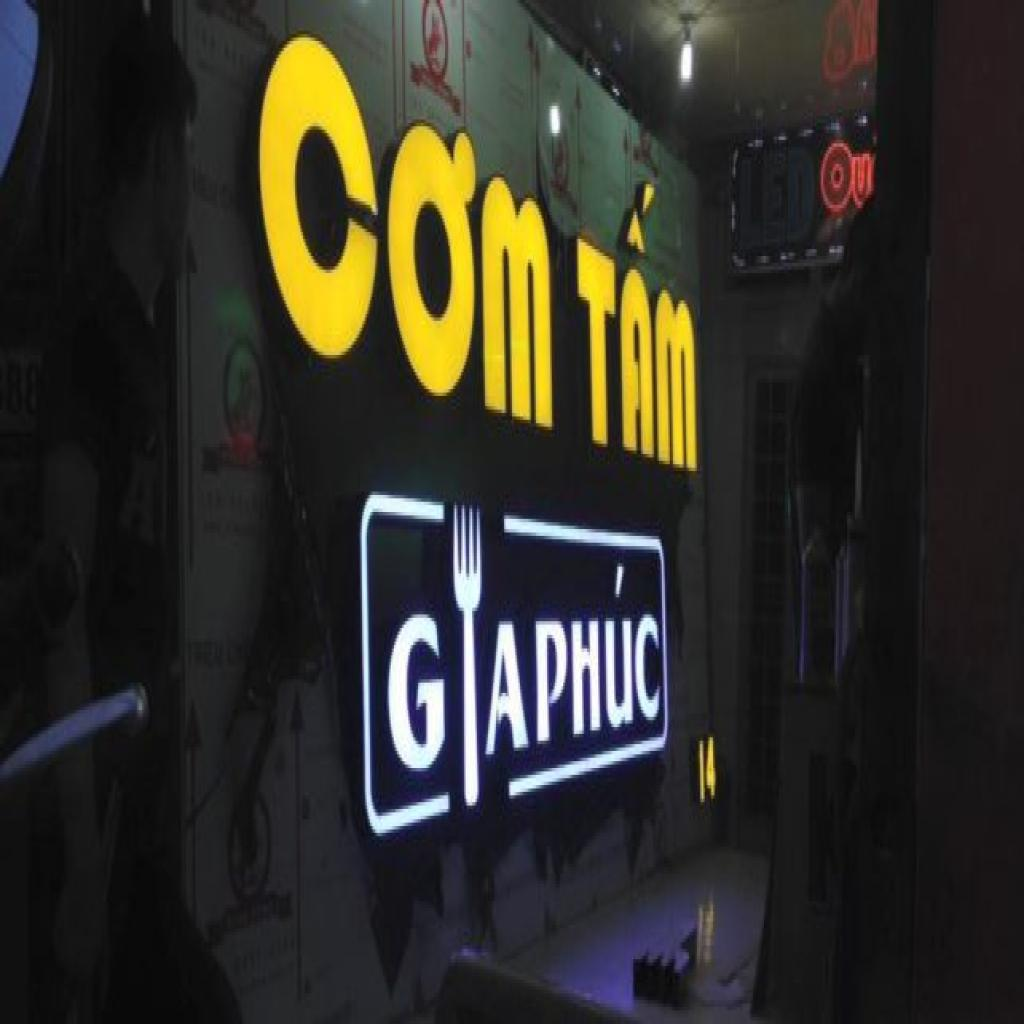text: (248, 0, 556, 433), (578, 164, 704, 474), (531, 553, 664, 754), (375, 608, 453, 785), (738, 136, 818, 252), (482, 614, 532, 764), (822, 140, 872, 208), (694, 730, 721, 812)
